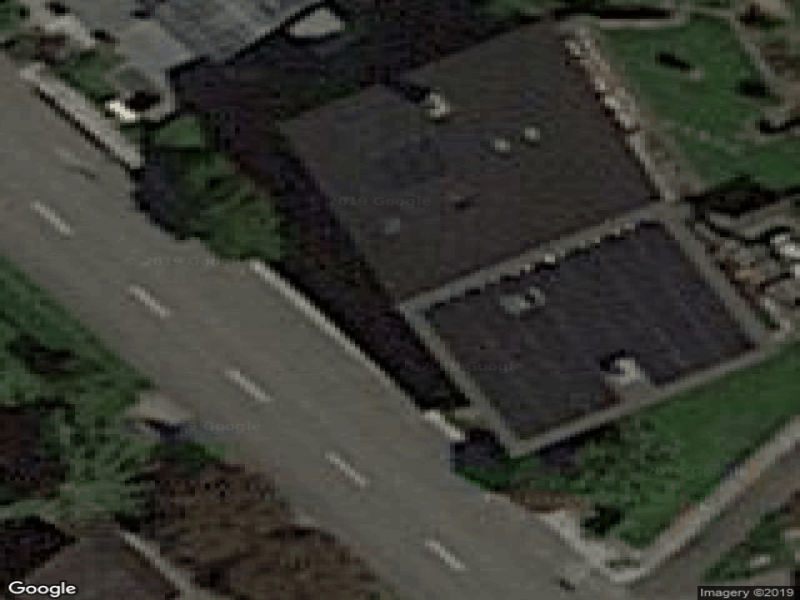pv: (424, 224, 761, 439)
